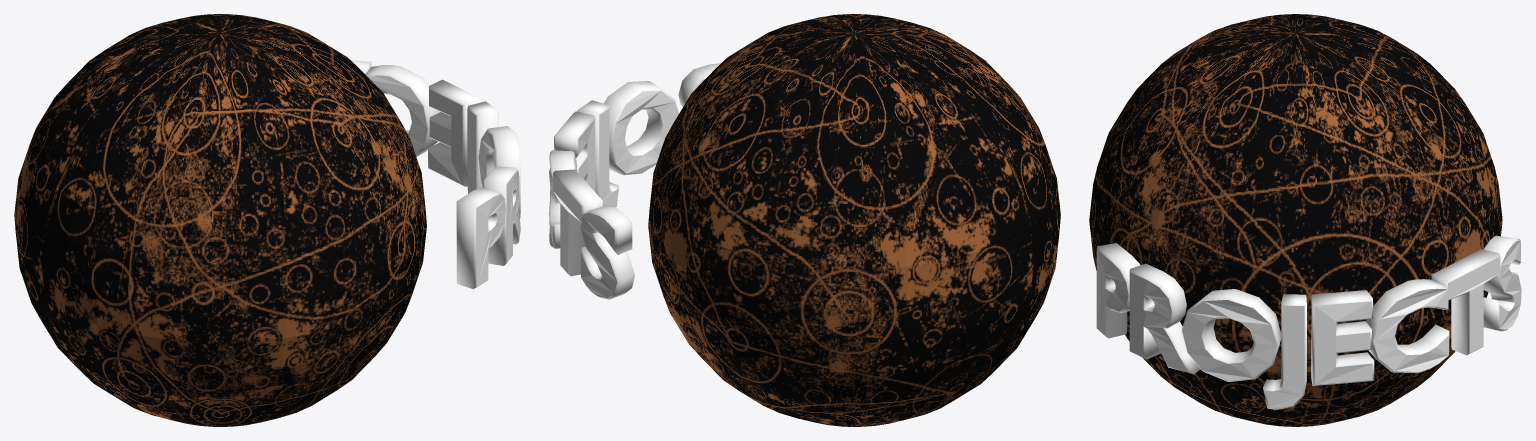
Rendered from projects.glb.
The picture shows the model from 3 angles, left to right: view 1: azimuth 30°, elevation 25°; view 2: azimuth 150°, elevation 25°; view 3: azimuth 270°, elevation 25°; orthographic projection.
Visible parts, largest first — view 1: Sphere, Text; view 2: Sphere, Text; view 3: Sphere, Text.
Part boxes in pixels (box(x1,y1,x2,y2)): Sphere: box(14, 14, 426, 426); Text: box(351, 60, 520, 289); Sphere: box(648, 14, 1060, 426); Text: box(549, 63, 720, 299); Sphere: box(1089, 14, 1502, 426); Text: box(1096, 235, 1521, 409).
Bounding box in the file's own units: 2.52 × 2 × 2.09.
2 materials, 1 textured.
